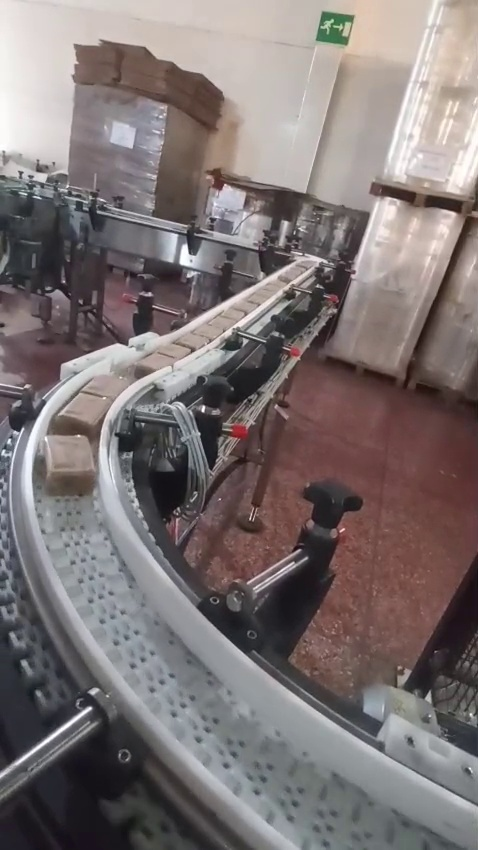savon: (157, 102, 240, 220), (411, 181, 478, 252), (128, 47, 182, 82), (340, 25, 367, 76), (52, 464, 92, 496), (434, 268, 458, 307), (54, 417, 96, 435), (372, 666, 402, 688), (454, 0, 470, 36), (352, 0, 369, 17), (418, 368, 430, 386)
